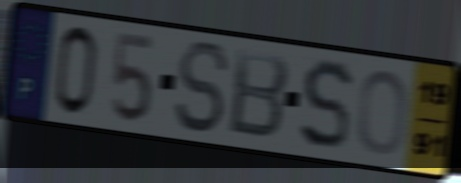0: (52, 23, 101, 116)
5: (108, 28, 157, 125)
B: (226, 45, 292, 143)
O: (355, 66, 411, 158)
S: (172, 38, 232, 137), (297, 56, 356, 154)
